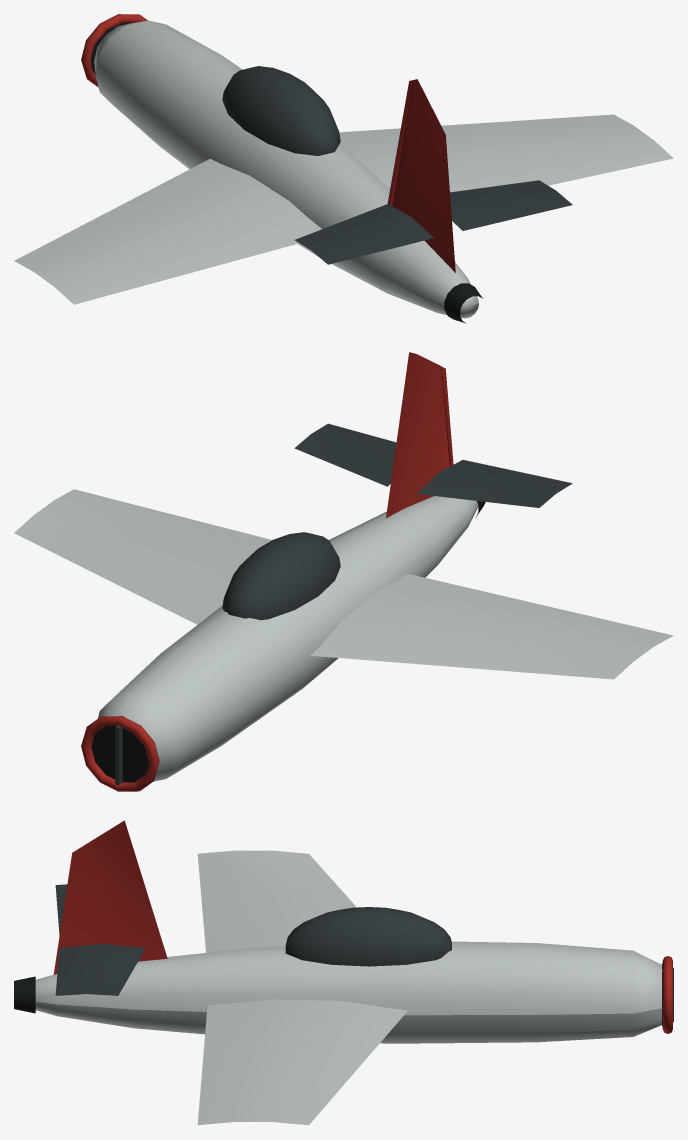
3 renders of one model, top to bottom at view 1: azimuth 30°, elevation 25°; view 2: azimuth 150°, elevation 25°; view 3: azimuth 270°, elevation 25°, orthographic. The views are drawn at different scales.
Visible parts, largest first — view 1: MainWings, Fuselage, HighTailplanes, BubbleCanopy, VerticalFin, RedIntakeLip, ExhaustNozzle; view 2: MainWings, Fuselage, HighTailplanes, BubbleCanopy, VerticalFin, RedIntakeLip, NoseIntake; view 3: Fuselage, MainWings, VerticalFin, BubbleCanopy, HighTailplanes, RedIntakeLip, ExhaustNozzle.
Boxes of the visible parts, x1,y1,x2,y2 form: MainWings: (14,114,673,304); Fuselage: (94,20,478,318); HighTailplanes: (295,180,572,264); BubbleCanopy: (222,66,340,155); VerticalFin: (387,79,455,272); RedIntakeLip: (81,14,147,87); ExhaustNozzle: (444,283,482,323); MainWings: (14,489,673,679); Fuselage: (98,496,478,781); HighTailplanes: (294,423,572,507); BubbleCanopy: (222,532,340,620); VerticalFin: (386,352,453,518); RedIntakeLip: (81,716,159,791); NoseIntake: (91,725,148,782); Fuselage: (35,941,662,1043); MainWings: (197,850,407,1125); VerticalFin: (53,820,167,974); BubbleCanopy: (285,907,451,966); HighTailplanes: (55,884,145,995); RedIntakeLip: (662,956,672,1033); ExhaustNozzle: (14,976,35,1013).
Bounding box in the file's own units: 10.04 × 3.73 × 10.32.
